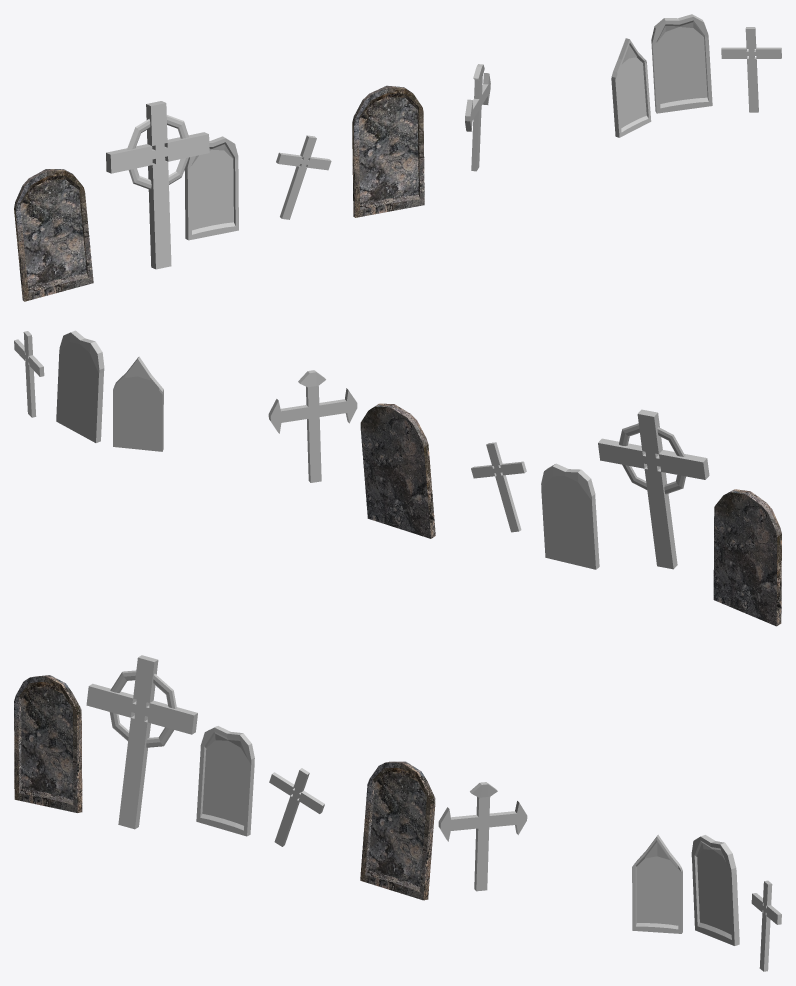
Rendered from grave_head2.fbx.
3 renders of one model, top to bottom at view 1: azimuth 30°, elevation 25°; view 2: azimuth 150°, elevation 25°; view 3: azimuth 330°, elevation 25°, orthographic. The views are drawn at different scales.
Visible parts, largest first — view 1: headusOBJexport126; view 2: headusOBJexport126; view 3: headusOBJexport126.
Part boxes in pixels (x1,y1,x2,y2): headusOBJexport126: (14, 14, 781, 301); headusOBJexport126: (14, 330, 781, 626); headusOBJexport126: (14, 655, 781, 971).
Size of the model in its own units: 400 by 86.57 by 30.44.
